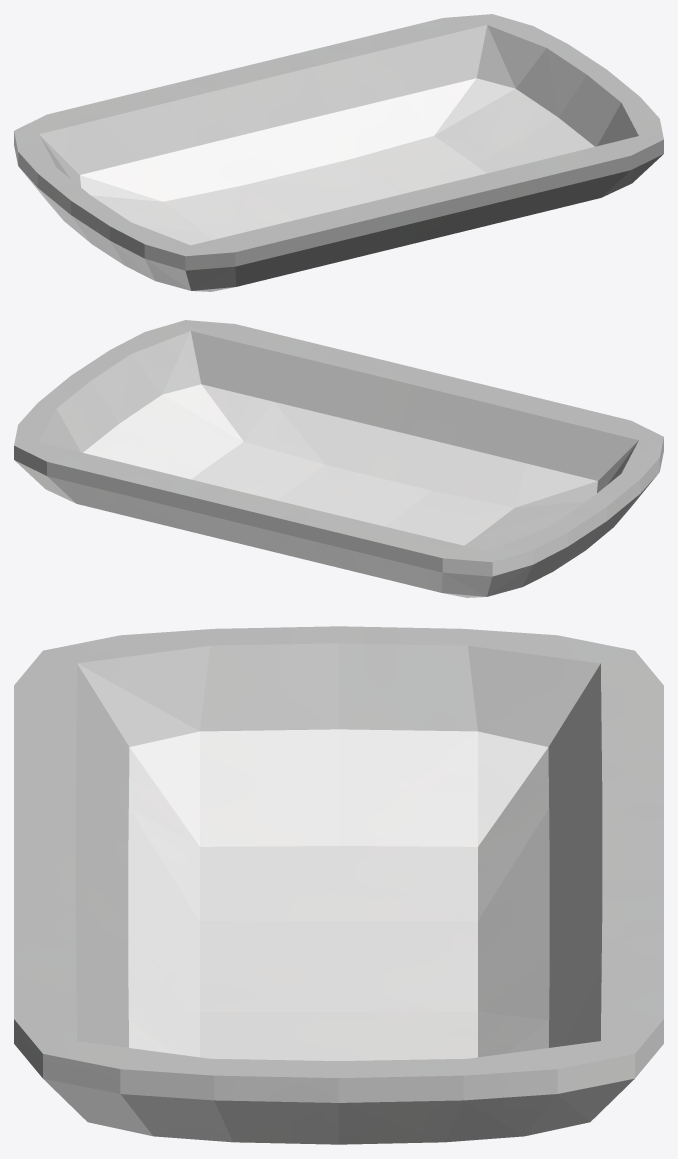
File: tray_2.fbx
3 views of the same model, one above another, from view 1: azimuth 30°, elevation 25°; view 2: azimuth 150°, elevation 25°; view 3: azimuth 270°, elevation 25° (orthographic). The views are drawn at different scales.
Parts seen in each view (by area): view 1: tray_2; view 2: tray_2; view 3: tray_2.
Part boxes in pixels (left/top/right/bottom): tray_2: left=14, top=14, right=663, bottom=291; tray_2: left=14, top=320, right=663, bottom=597; tray_2: left=14, top=626, right=663, bottom=1144.
Size of the model in its own units: 0.3657 by 0.045 by 0.2224.
